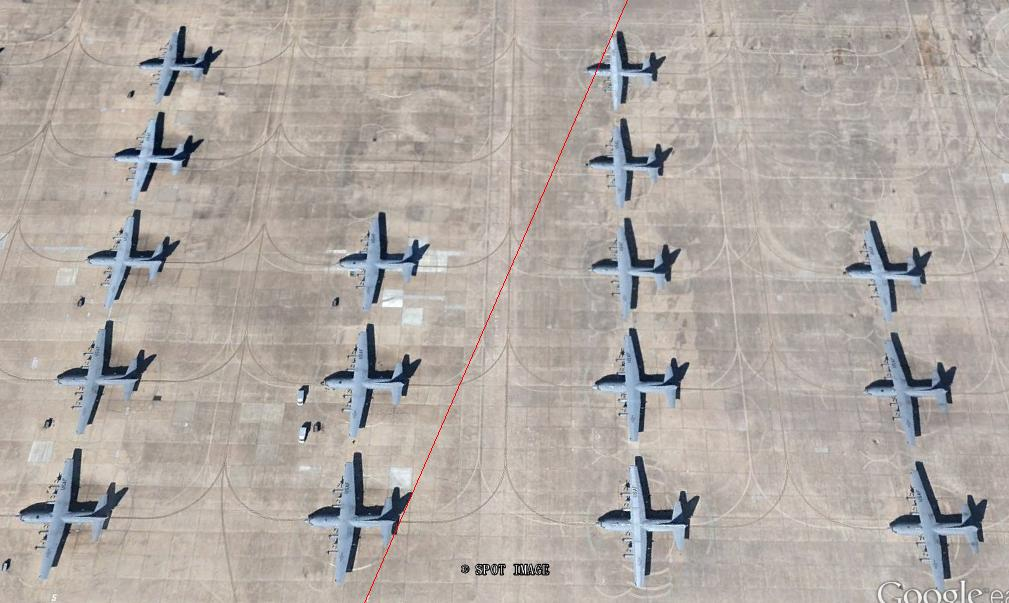C-130: (888, 458, 988, 585), (16, 456, 120, 576), (600, 463, 695, 588), (306, 459, 404, 577), (52, 321, 146, 432), (321, 324, 413, 433), (595, 328, 686, 437), (866, 336, 957, 442), (337, 211, 425, 311), (841, 225, 933, 318), (89, 210, 173, 303), (590, 223, 672, 313), (585, 116, 663, 202), (111, 111, 189, 195), (584, 30, 660, 110), (139, 25, 214, 98)
